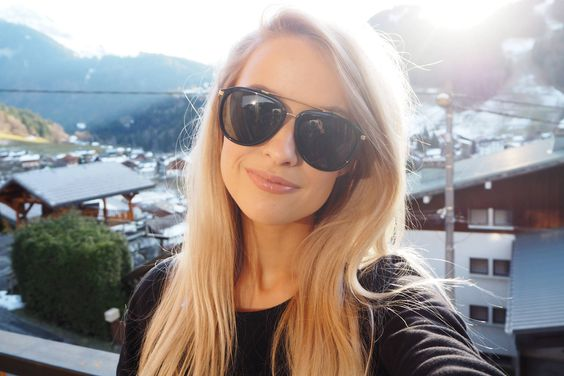sunglasses: (211, 87, 353, 169)
